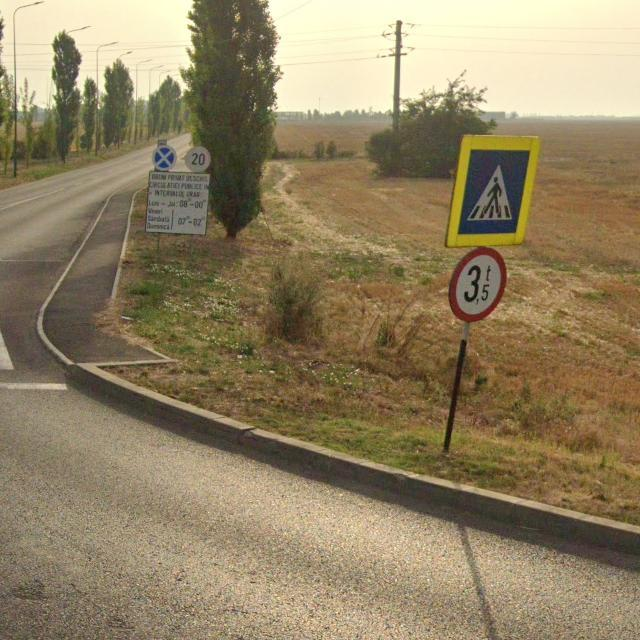forb_speed_over_20: (185, 146, 211, 173)
forb_waiting: (153, 146, 176, 171)
info_crosswalk: (446, 134, 540, 245)
